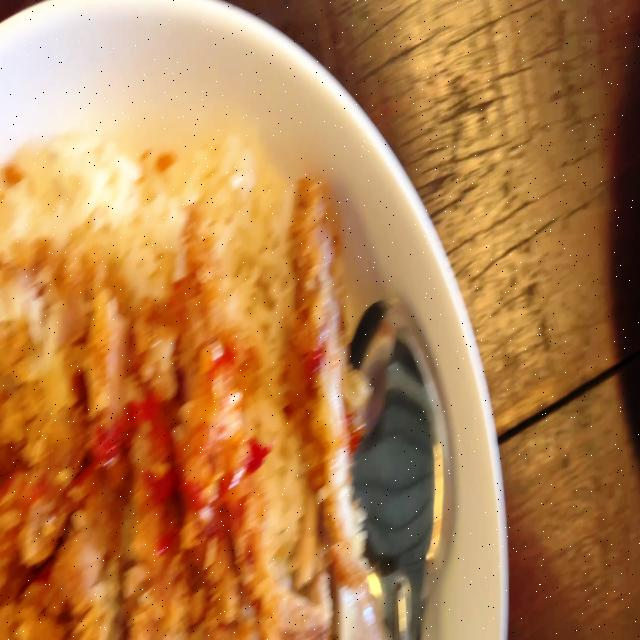chicken_rice: (0, 120, 388, 640)
fried_chicken: (0, 192, 354, 640)
